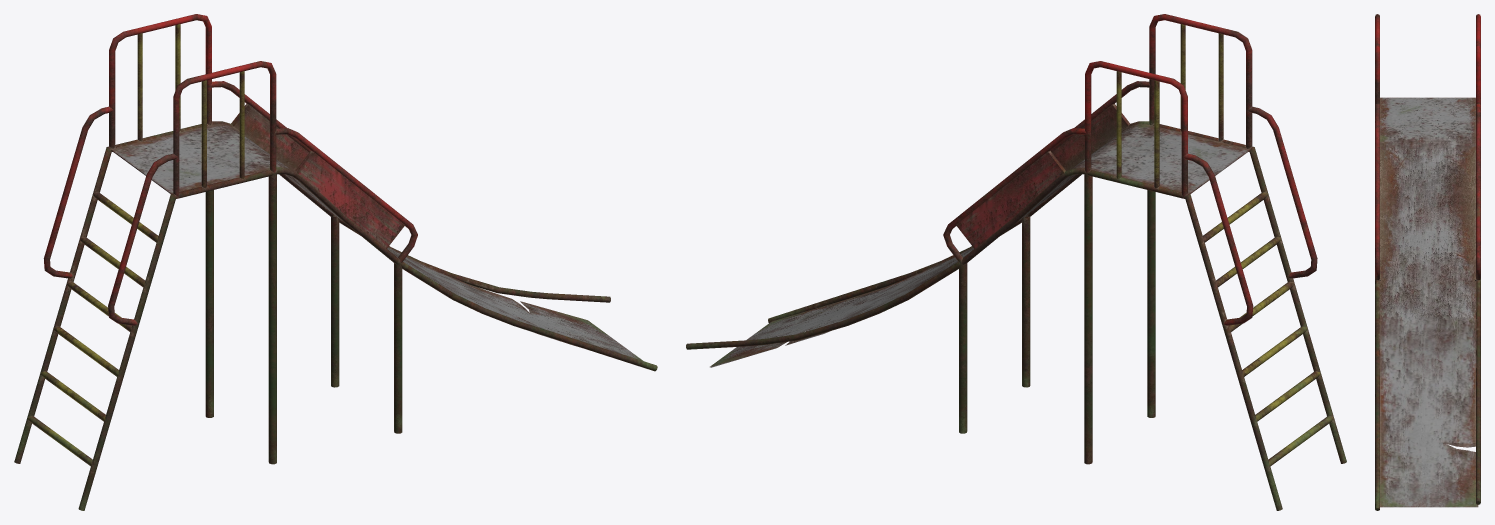
File: slide.glb
3 renders of one model, left to right at view 1: azimuth 30°, elevation 25°; view 2: azimuth 150°, elevation 25°; view 3: azimuth 270°, elevation 25°, orthographic. The views are drawn at different scales.
Visible parts, largest first — view 1: Plane004__0; view 2: Plane004__0; view 3: Plane004__0.
Boxes of the visible parts, left/top/right/bottom form: Plane004__0: left=14, top=14, right=657, bottom=510; Plane004__0: left=686, top=14, right=1346, bottom=510; Plane004__0: left=1375, top=14, right=1480, bottom=510.
Size of the model in its own units: 3.21 by 2.09 by 0.6302.
Materials: 1 (1 with a texture image).
